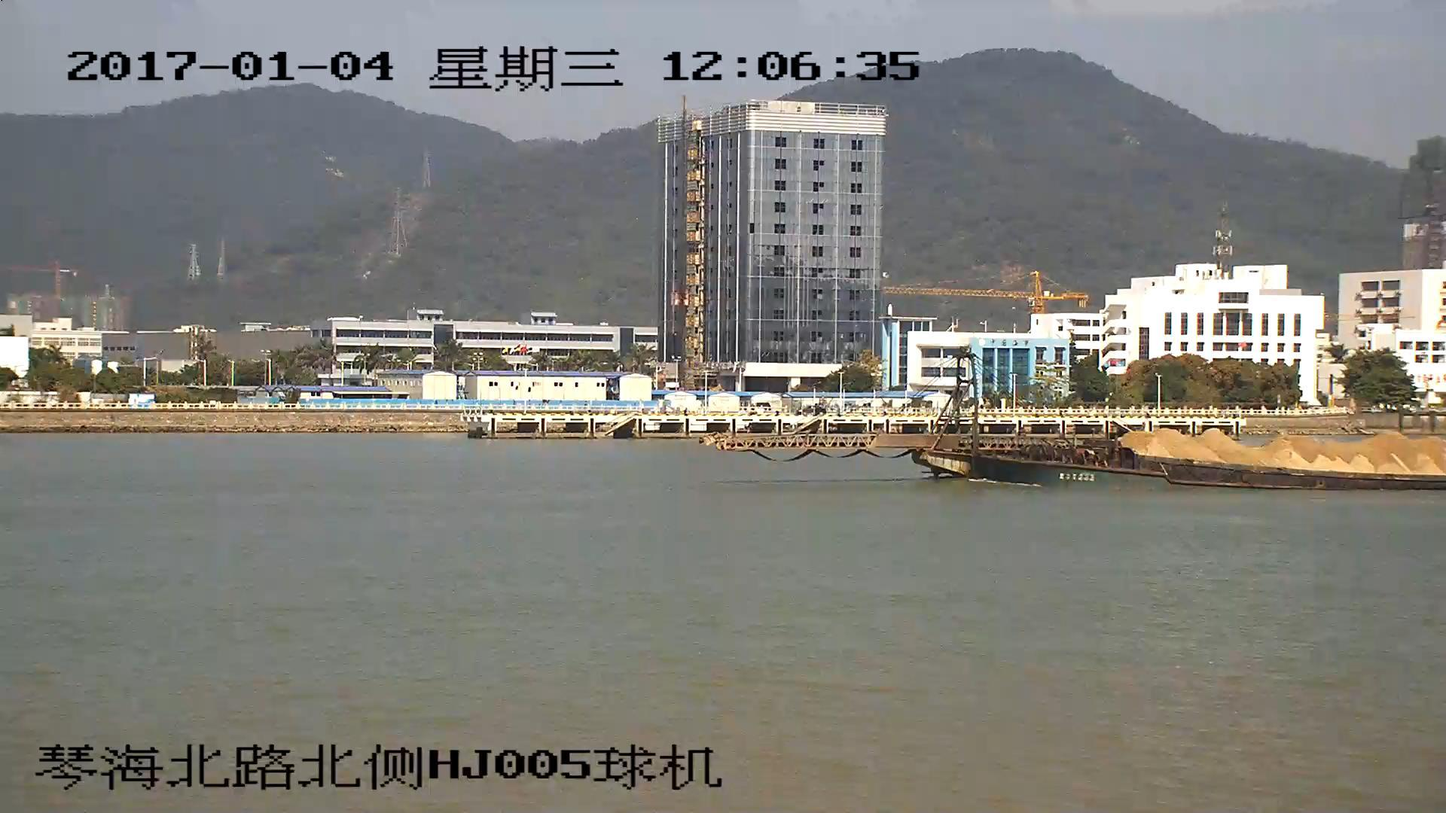ore carrier: (718, 342, 1445, 484)
